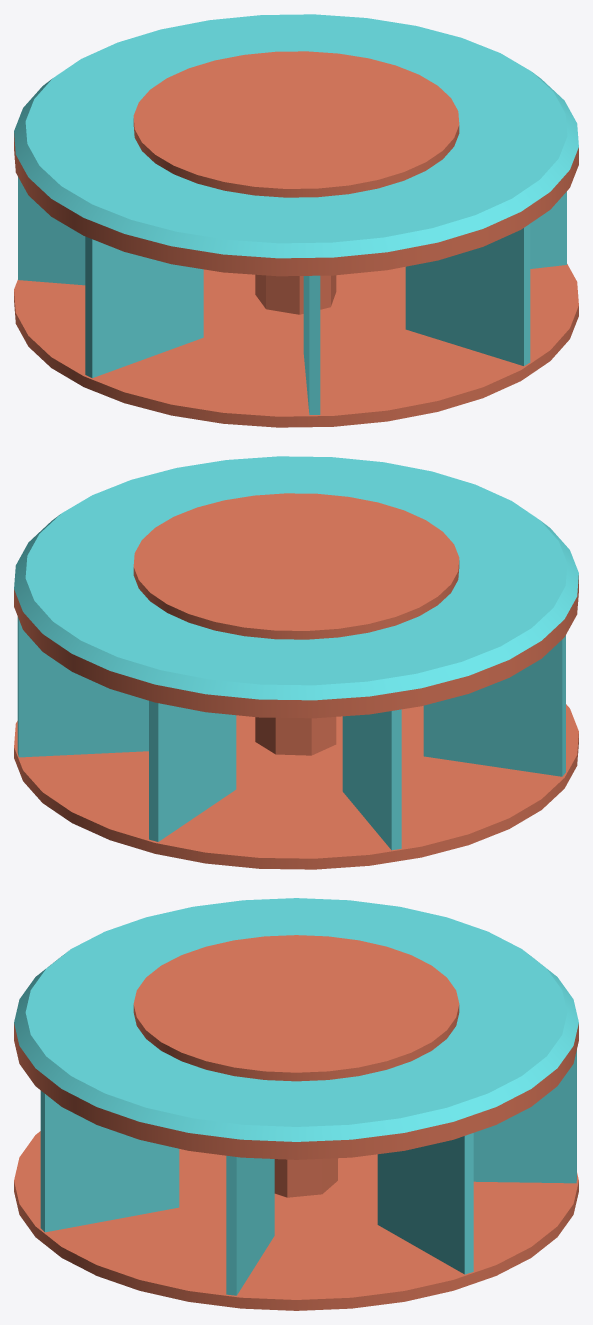
File: droneDolap.fbx
3 renders of one model, top to bottom at view 1: azimuth 30°, elevation 25°; view 2: azimuth 150°, elevation 25°; view 3: azimuth 270°, elevation 25°, orthographic.
Visible parts, largest first — view 1: doreneDolap; view 2: doreneDolap; view 3: doreneDolap.
Part boxes in pixels (x1,y1,x2,y2): doreneDolap: [14, 14, 578, 427]; doreneDolap: [14, 456, 578, 869]; doreneDolap: [14, 898, 578, 1310].
Size of the model in its own units: 775 by 284 by 775.
